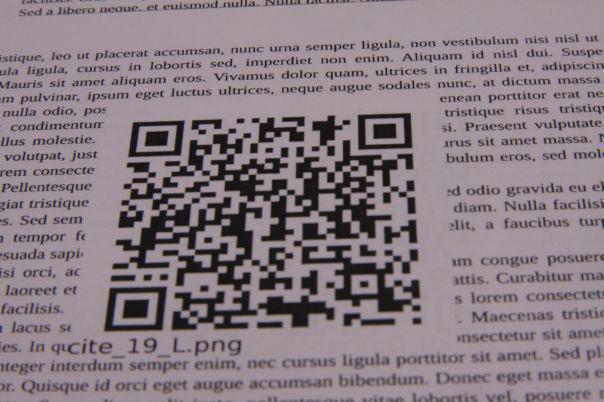qr_code: (104, 112, 421, 331)
